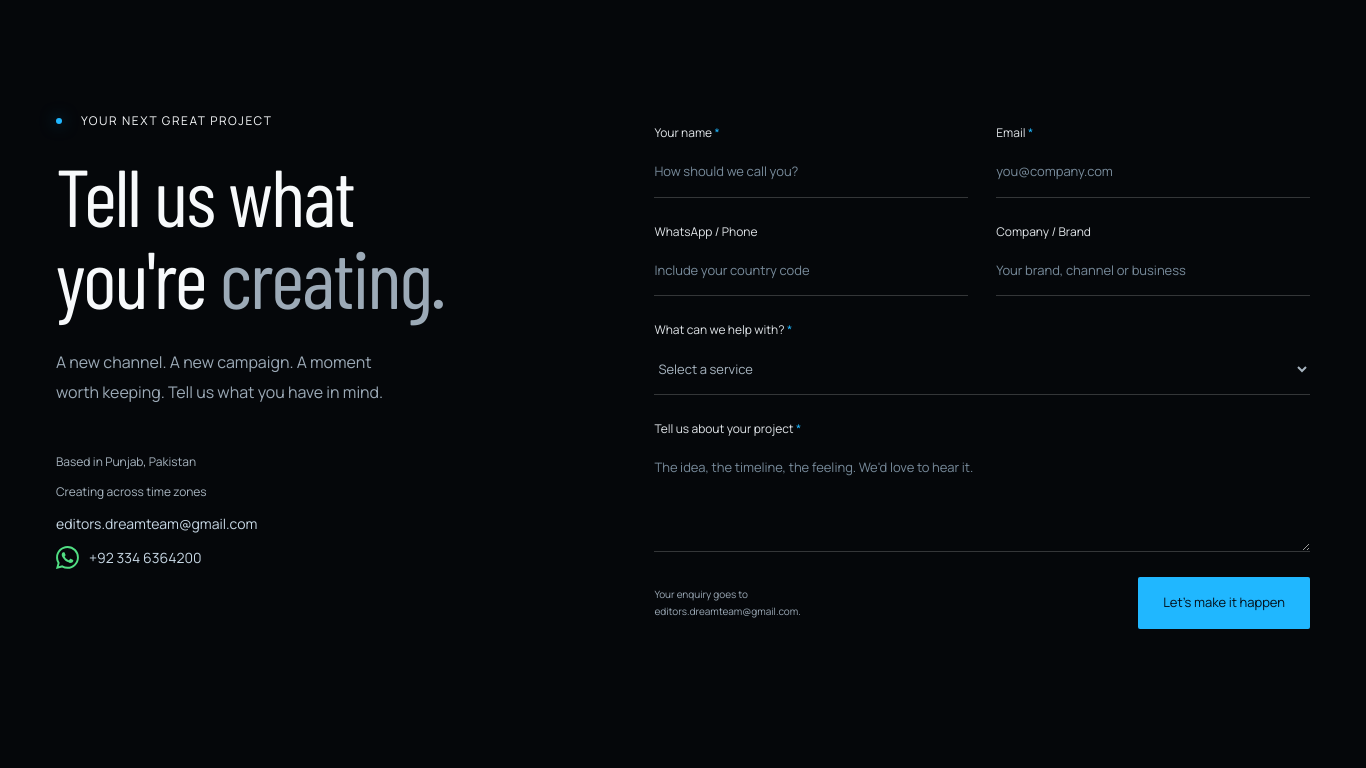
Test: Project enquiry delivery › posts the enquiry to the configured email service and shows provider acceptance
Type "Test Creator" into the field with placeholder "How should we call you?" at coordinates (811, 172), box [654,147,968,198]
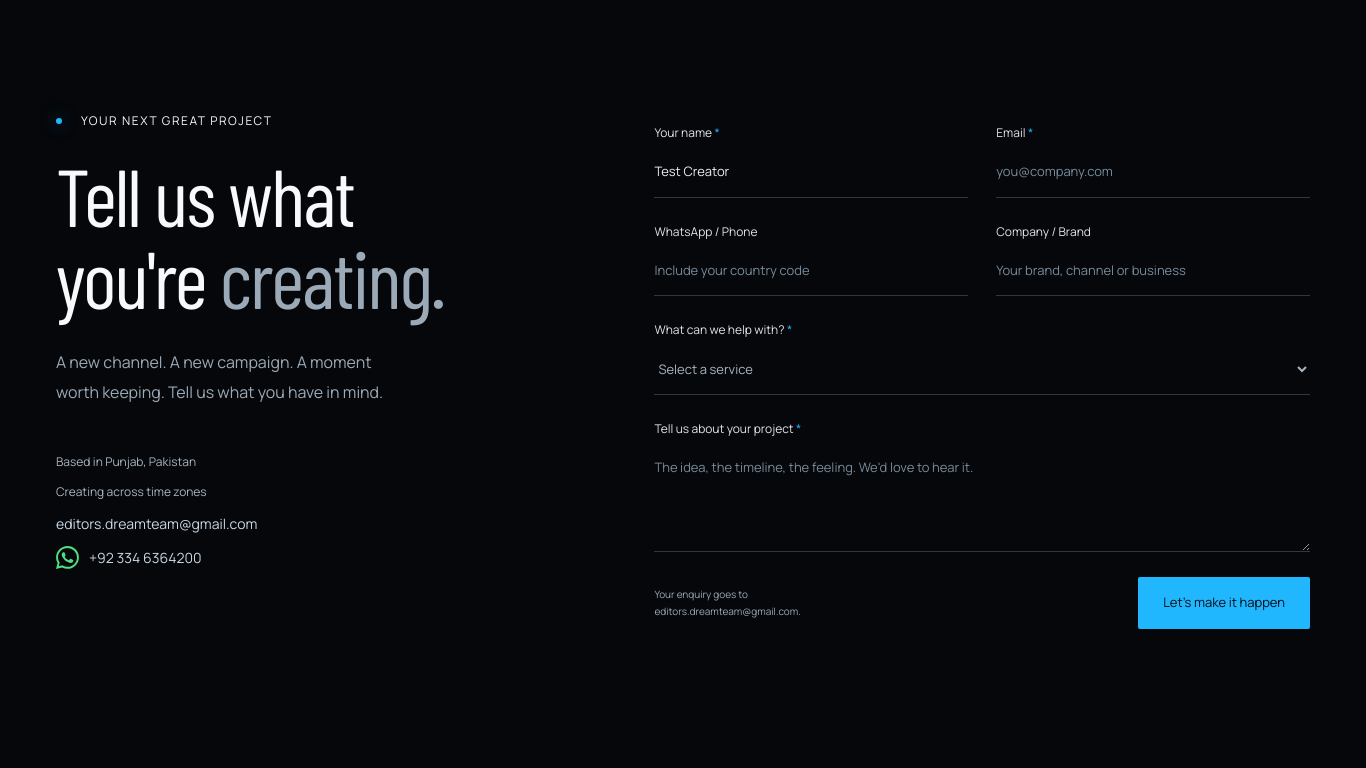
Type "test@example.com" into the field with placeholder "you@company.com" at coordinates (1153, 172), box [996,147,1310,198]
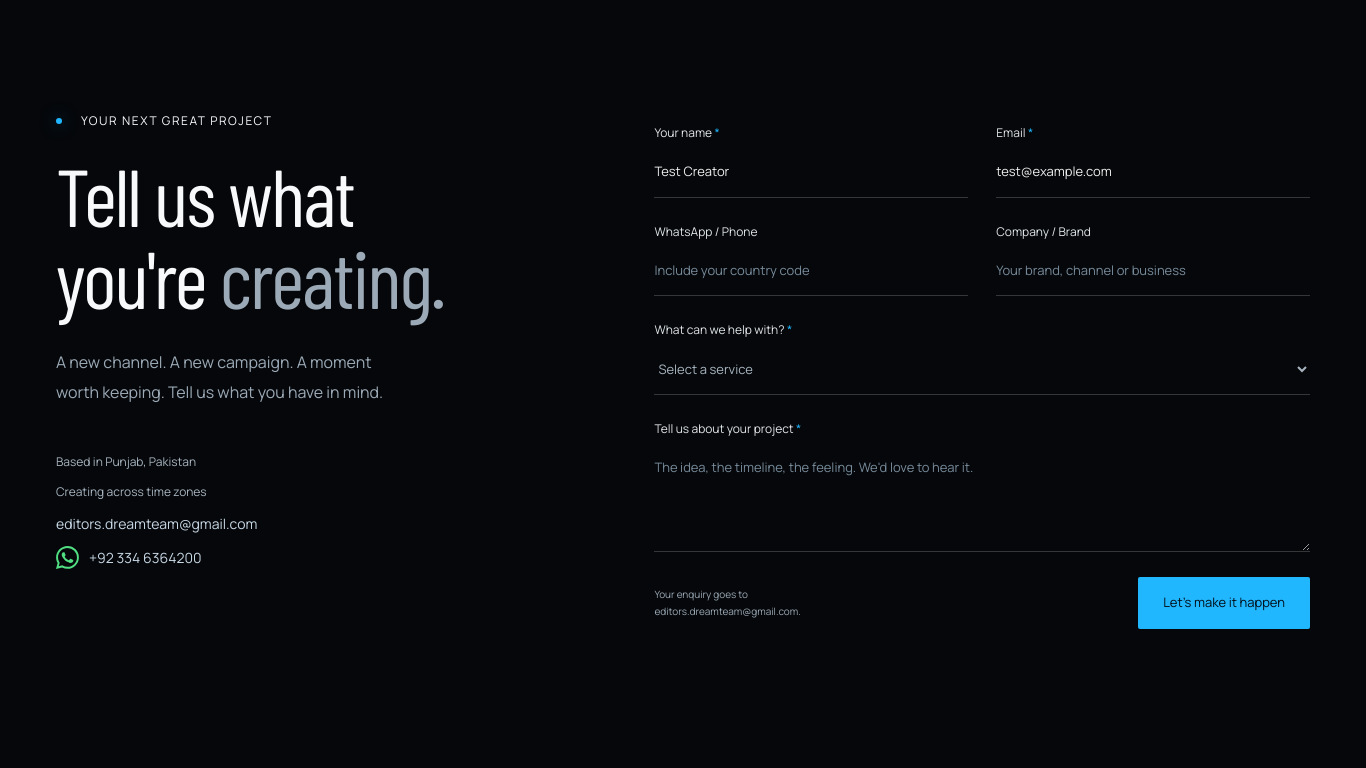
Select "Color Grading" in the dropdown at coordinates (982, 370), box [654,344,1310,395]
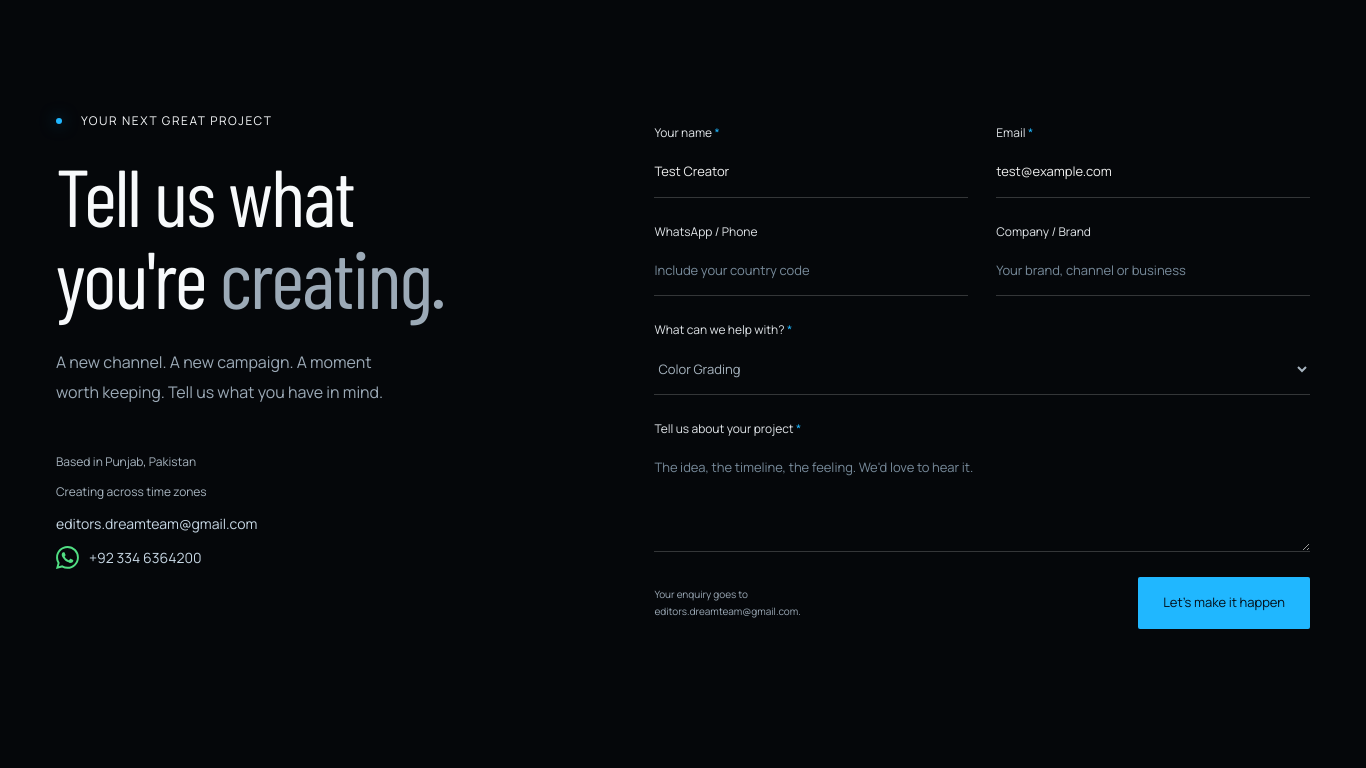
Type "A cinematic color grade for a short brand film." into the text box labelled "Tell us about your project *" at coordinates (982, 498), box [654,443,1310,552]
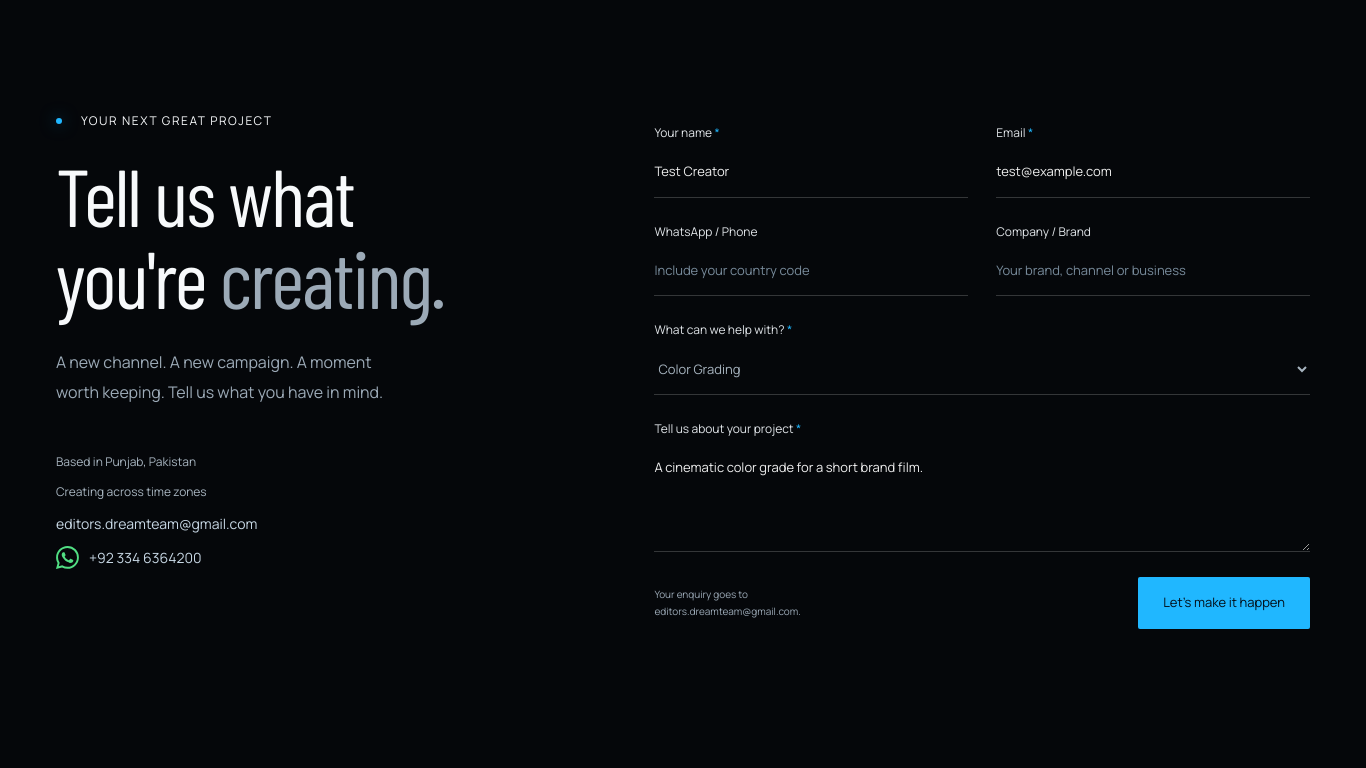
Click the button "Let’s make it happen" at coordinates (1224, 603), box [1138,577,1310,628]
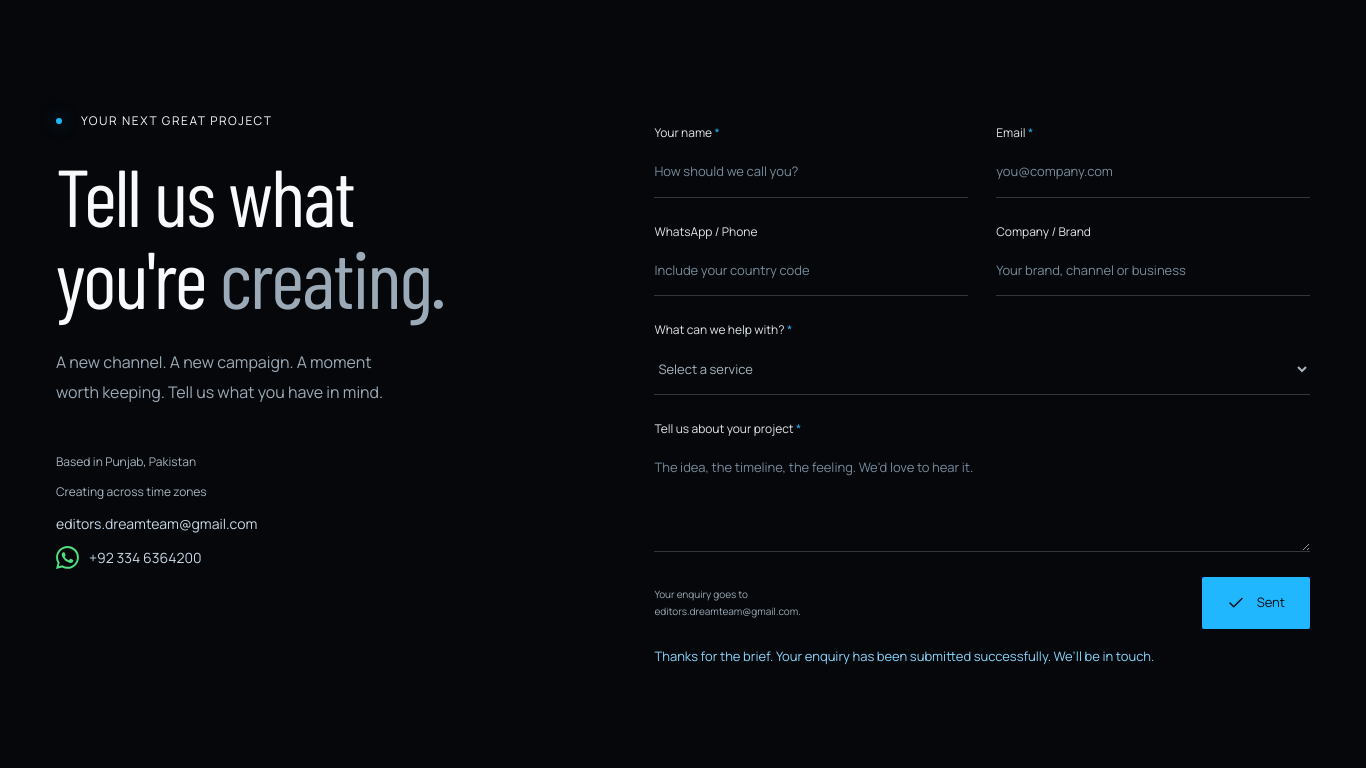
Now the message shows "submitted successfully", box [654,646,1154,664]
Now the field with placeholder "you@company.com" is empty, box [996,147,1310,198]
